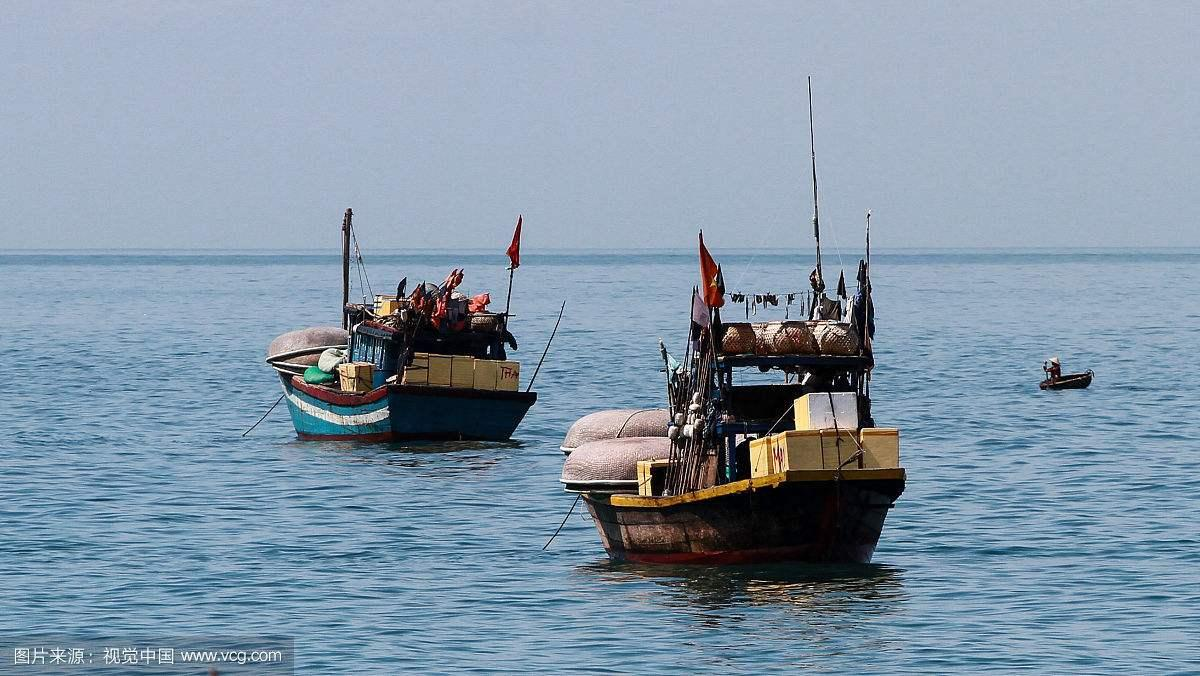otherboat: (554, 209, 896, 594), (265, 201, 550, 448), (1037, 364, 1100, 392)
